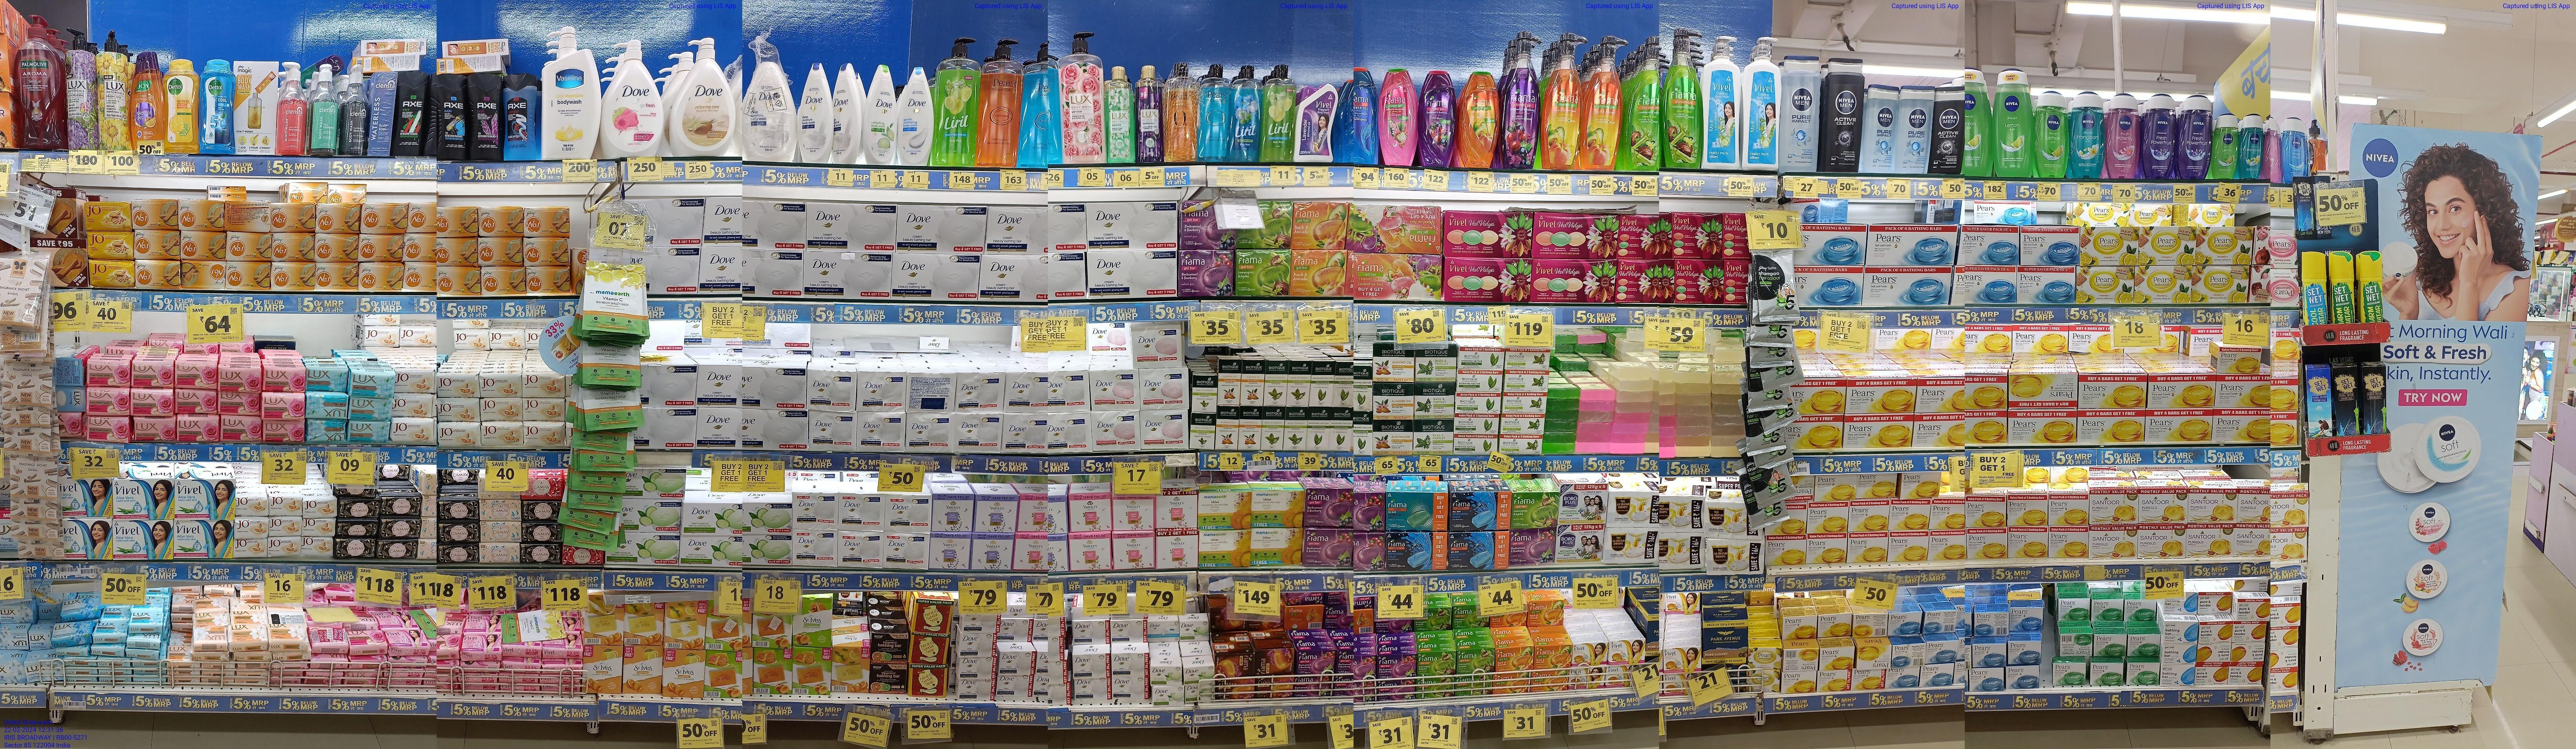Dettol_Bodywash_Cool: (204, 62, 235, 158)
Dettol_Bodywash_Refresh: (169, 61, 200, 153)
Dove_Deep_Moisture_Body_Wash_250ML: (800, 59, 833, 161), (836, 66, 861, 163)
Dove_Gentle_Exfoliating_Body_Wash_250ML: (899, 66, 933, 166)
Dove_Refreshing_Body_Wash_250ML: (866, 64, 897, 164)
Fiama_Shower_Gel_Patchouli_and_Macadamia_250ML: (1378, 66, 1416, 169)
Fiama_Shower_Gel_Peach_and_Avocado_250ML: (1459, 67, 1498, 164)
Joy_Shower_Gel_Mandarin_and_Lemongrass_250ML: (131, 51, 168, 141)
Liril_Cooling_Mint_Body_Wash_250ML: (1229, 64, 1258, 163)
Liril_Lime_and_Tea_Tree_Oil_Body_Wash_250ML: (1263, 64, 1293, 164)
Lux_Black_Orchid_Scent_and_Juniper_Oil_Body_Wash_245ML: (1137, 66, 1165, 166)
Lux_Body_Wash_Skin_Detox_Freesia_Scent_and_Alove_Vera_245ML: (1104, 66, 1135, 163)
Nivea_Shower_Gel_Frangipani_and_Oil_250ML: (2068, 94, 2106, 179)
Nivea_Shower_Gel_Fresh_Powerfruit_250ML: (2178, 95, 2211, 181), (2144, 95, 2175, 176)
Nivea_Shower_Gel_Lemon_and_Oil_250ML: (1996, 64, 2032, 177), (2035, 94, 2067, 181), (1966, 66, 1991, 174)
Nivea_Shower_Gel_Waterlily_and_Oil_250ML: (2108, 94, 2137, 179)
Pears_Pure_Glycerin_and_Mint_Extracts_Body_Wash_250ML: (1199, 64, 1226, 161)
